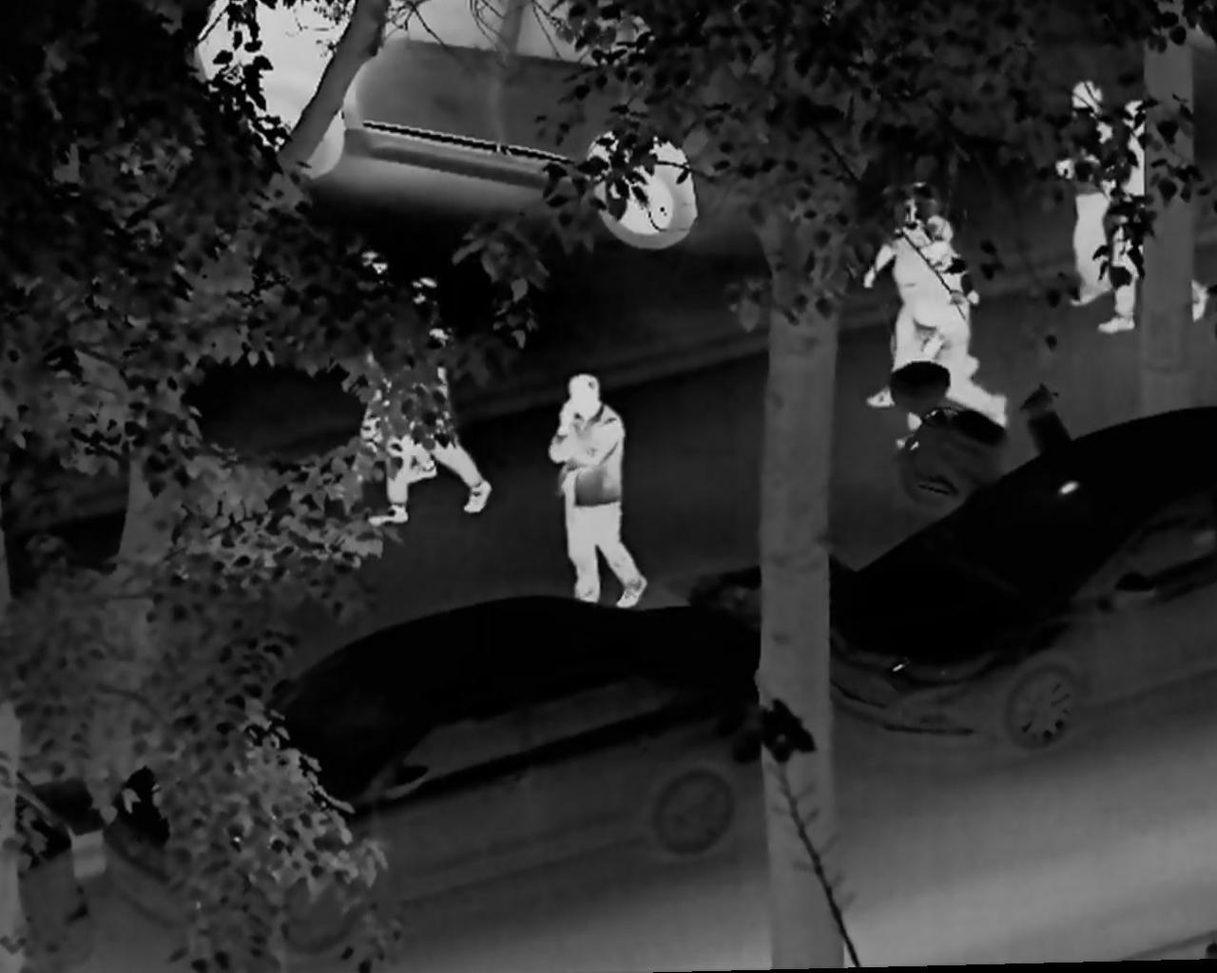person: (367, 278, 493, 531), (858, 172, 987, 410), (887, 224, 1006, 461), (1096, 99, 1207, 335), (329, 250, 435, 494), (1055, 78, 1132, 312)
